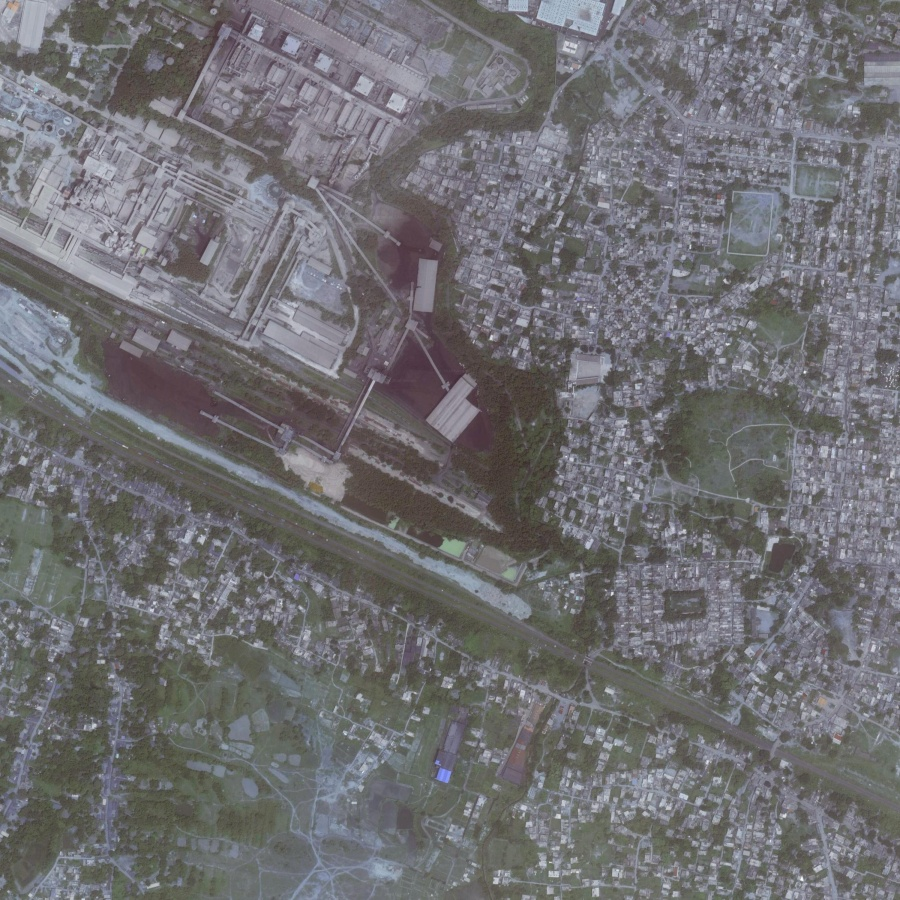PowerPlant: (23, 2, 529, 460)
